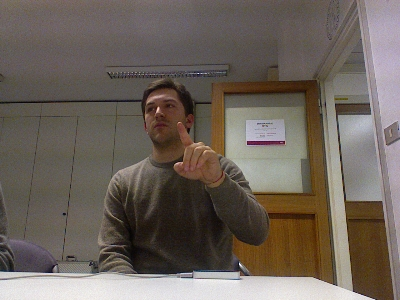食指: (172, 119, 223, 182)
